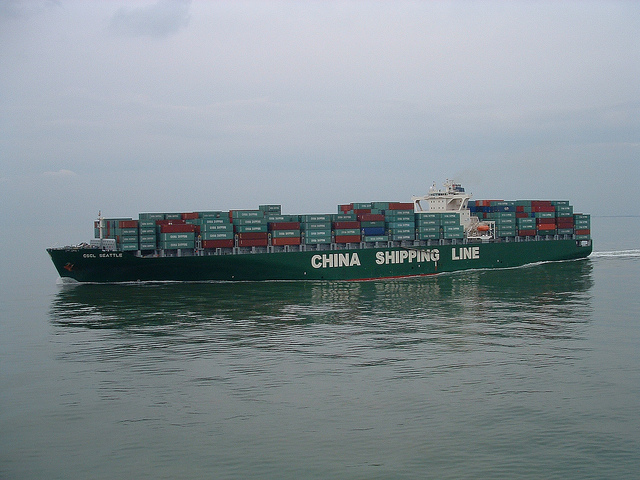container_ship: (48, 178, 595, 283)
